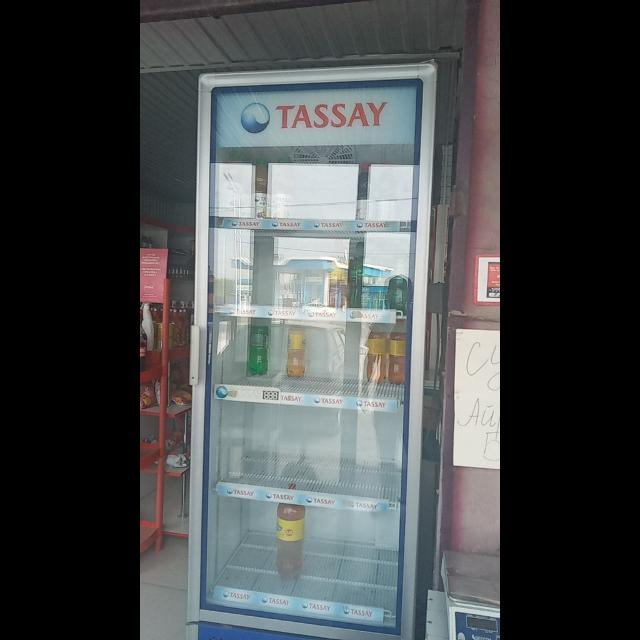Cooling-Display: (184, 61, 436, 640)
